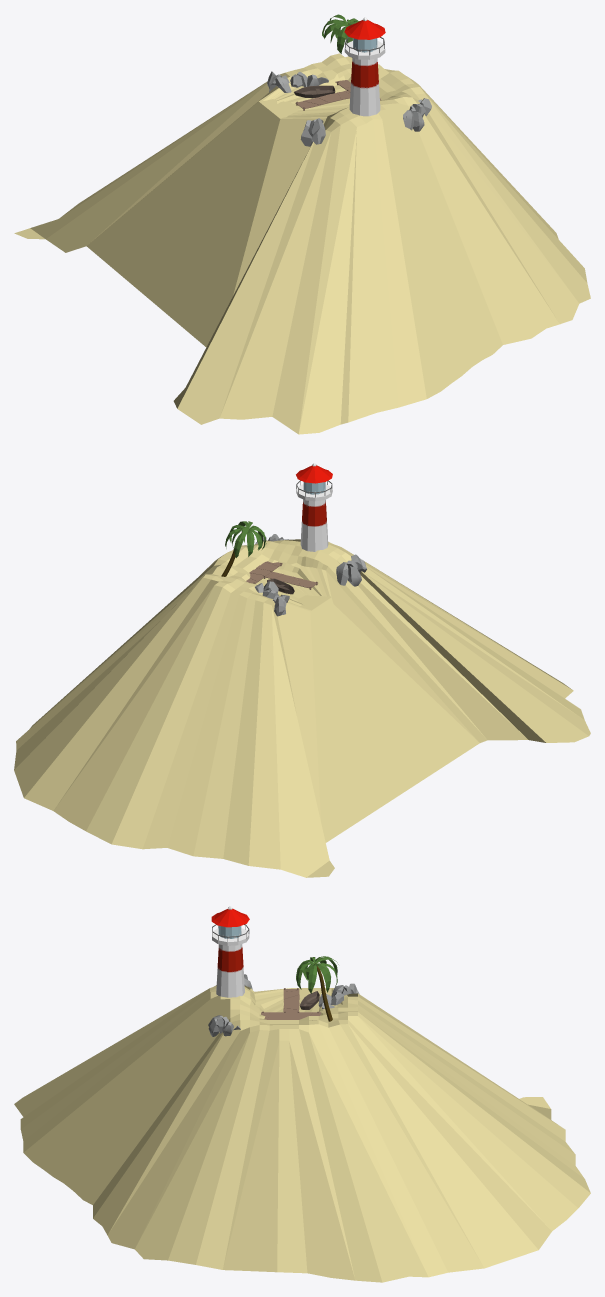
Rendered from Island_middle_green_1.glb.
3 renders of one model, top to bottom at view 1: azimuth 30°, elevation 25°; view 2: azimuth 150°, elevation 25°; view 3: azimuth 270°, elevation 25°, orthographic. The views are drawn at different scales.
Visible parts, largest first — view 1: 平面.005, 柱体.002, 柱体.004, 柱体.005, RB1_RB1_Cube.018; view 2: 平面.005, 柱体.002, 柱体.005, RB1_RB1_Cube.018; view 3: 平面.005, 柱体.002, 柱体.005, 柱体.004.
Boxes of the visible parts, box(x1,y1,x2,y2) form: 平面.005: box(14, 53, 590, 434); 柱体.002: box(344, 40, 385, 116); 柱体.004: box(344, 20, 385, 39); 柱体.005: box(295, 80, 380, 110); RB1_RB1_Cube.018: box(300, 118, 325, 146); 平面.005: box(14, 539, 590, 877); 柱体.002: box(296, 484, 332, 551); 柱体.005: box(246, 561, 317, 589); RB1_RB1_Cube.018: box(336, 554, 366, 586); 平面.005: box(14, 985, 590, 1282); 柱体.002: box(212, 928, 249, 997); 柱体.005: box(261, 988, 320, 1019); 柱体.004: box(211, 909, 249, 927).
Size of the model in its own units: 65.84 by 39.46 by 73.48.
12 materials, 1 textured.
